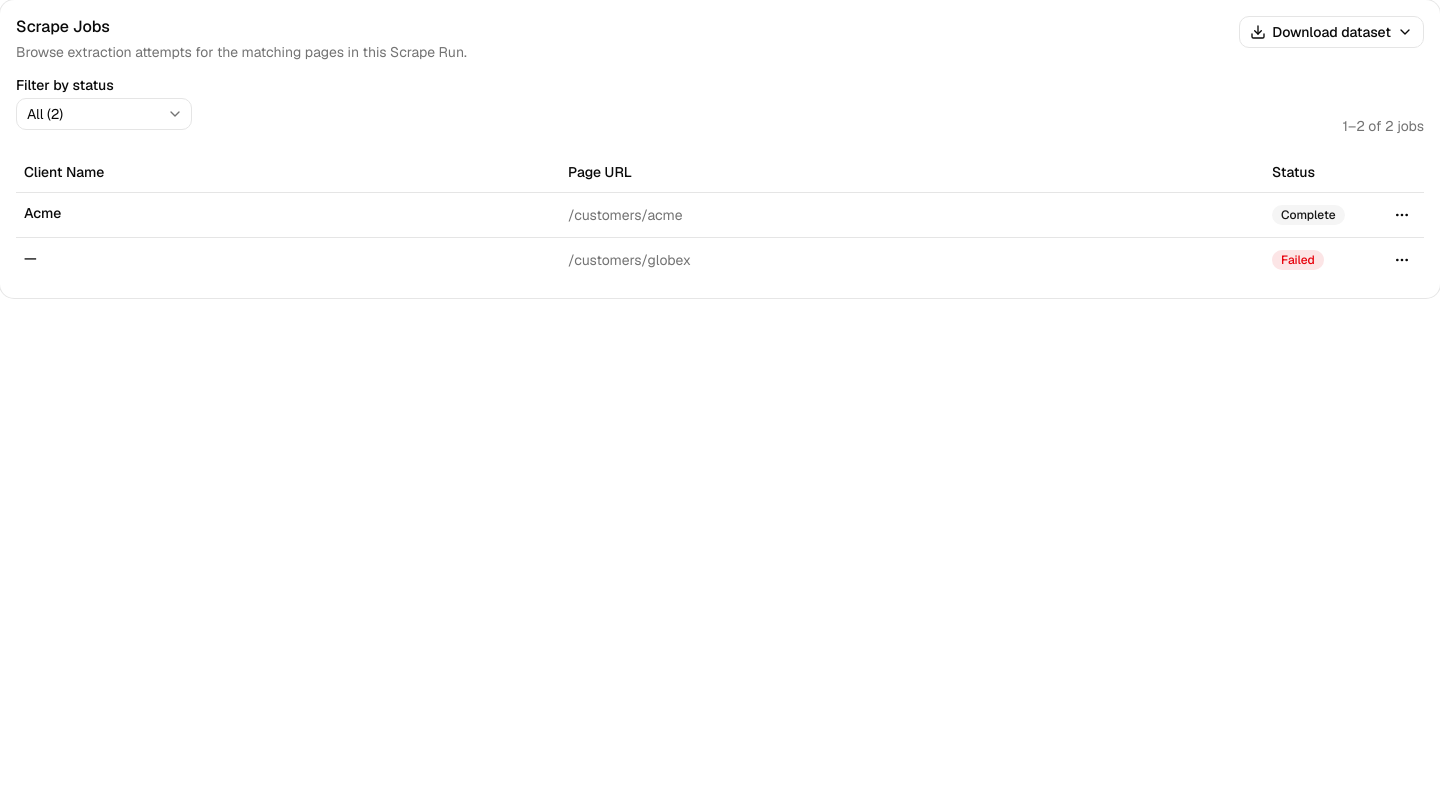
it: Extraction Dataset download › restores the control without retrying after a HTTP failure
Click the button "Download dataset": x=1332, y=32 1239,16 -> 1424,48
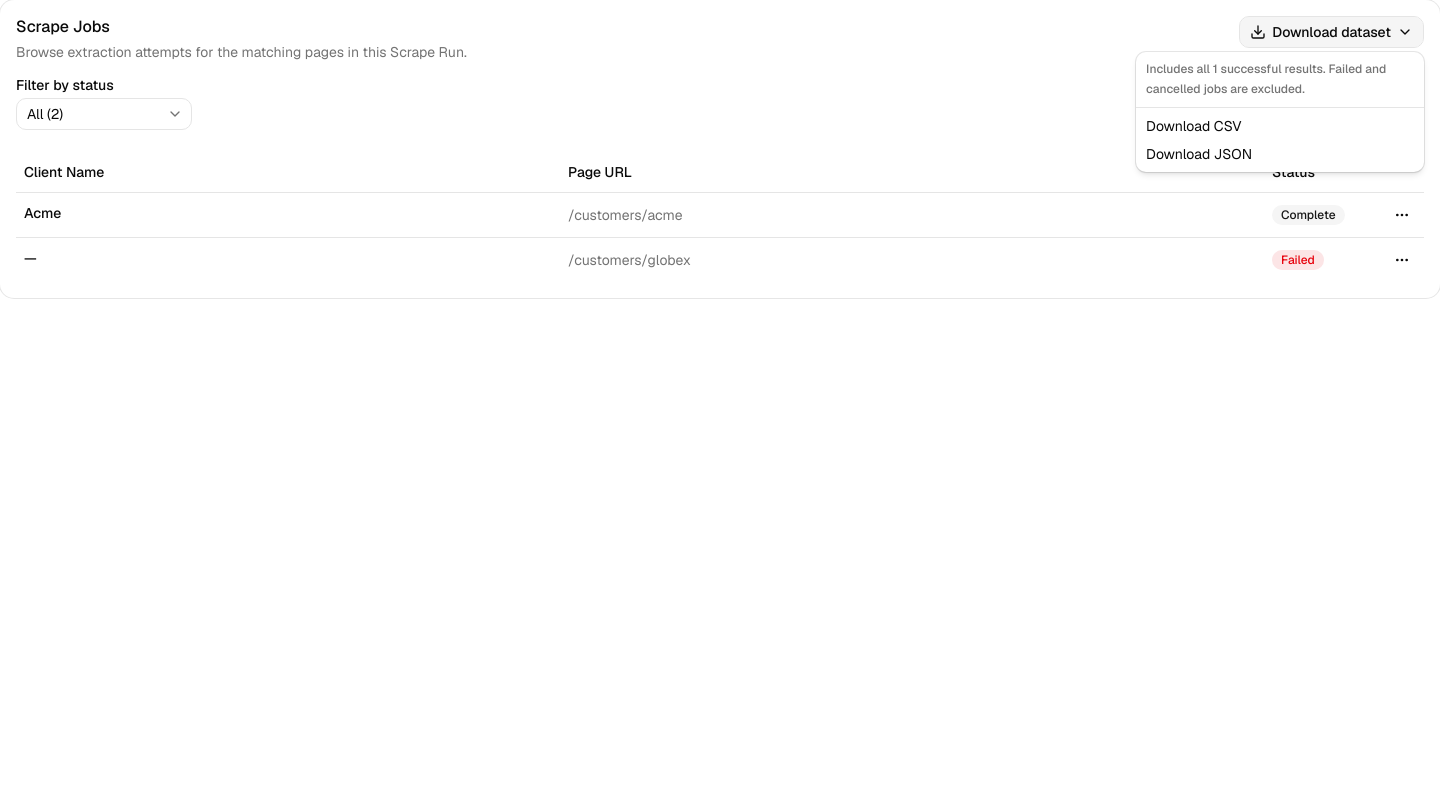
Click the menu item "Download JSON": x=1199, y=154 1146,145 -> 1252,163
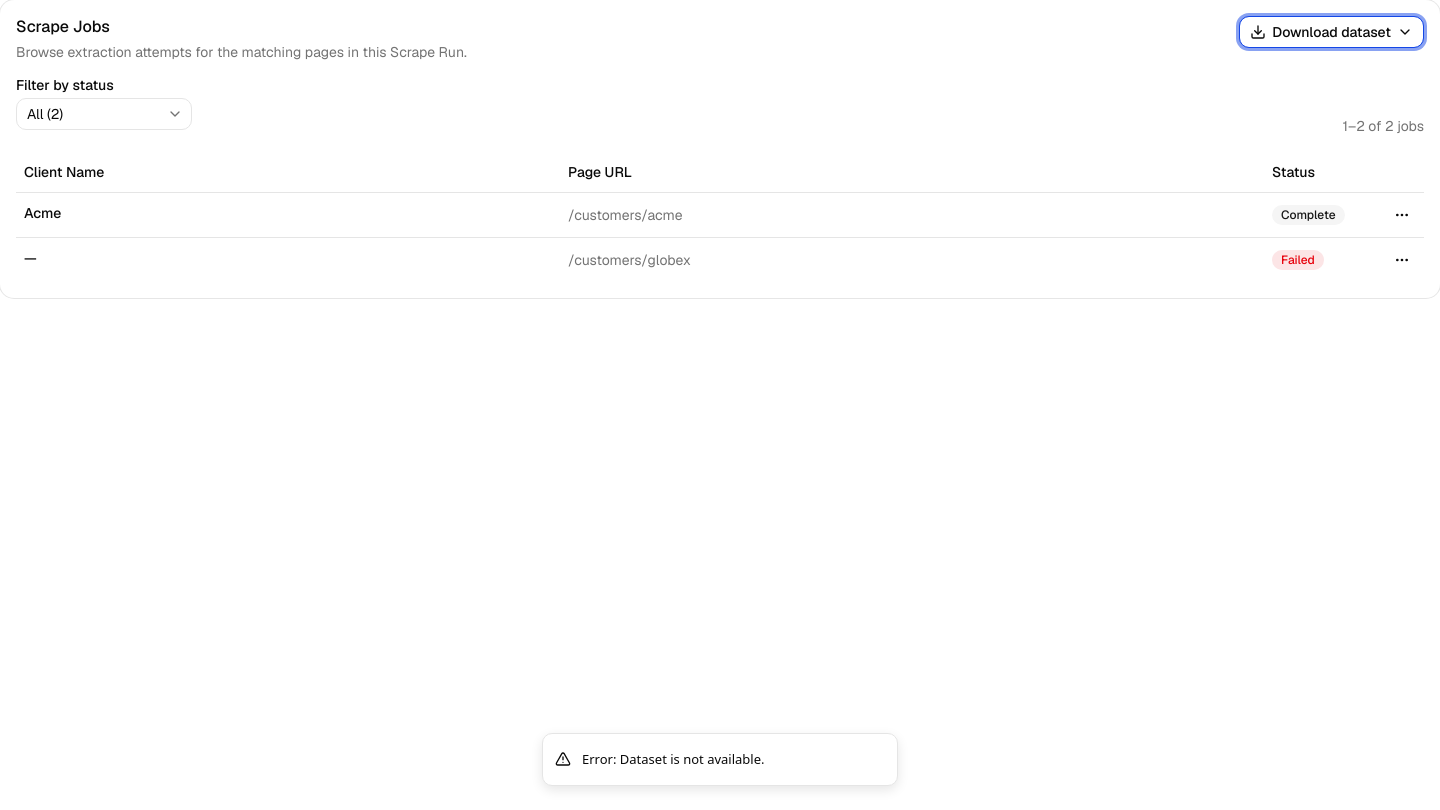
expect the button "Download dataset" is enabled: met, box 1239,16 -> 1424,48
expect the text "Error: Dataset is not available." is shown once: met, box 582,750 -> 764,769
